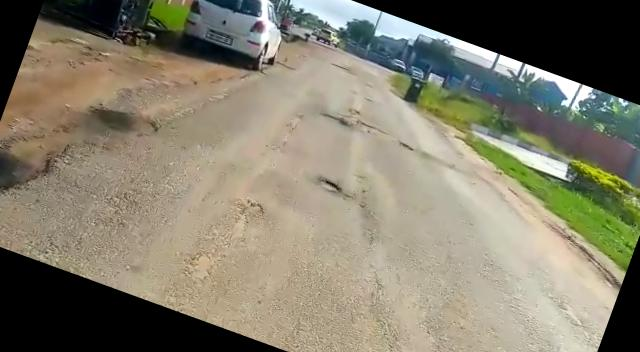pothole: (310, 172, 350, 200)
